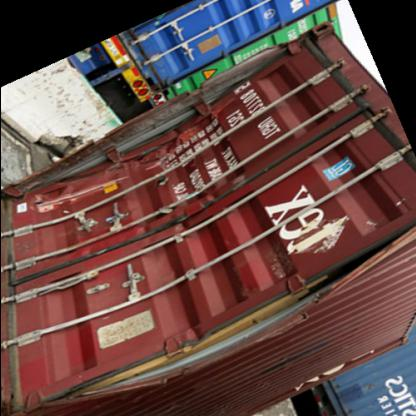Damage: (79, 272, 333, 389)
